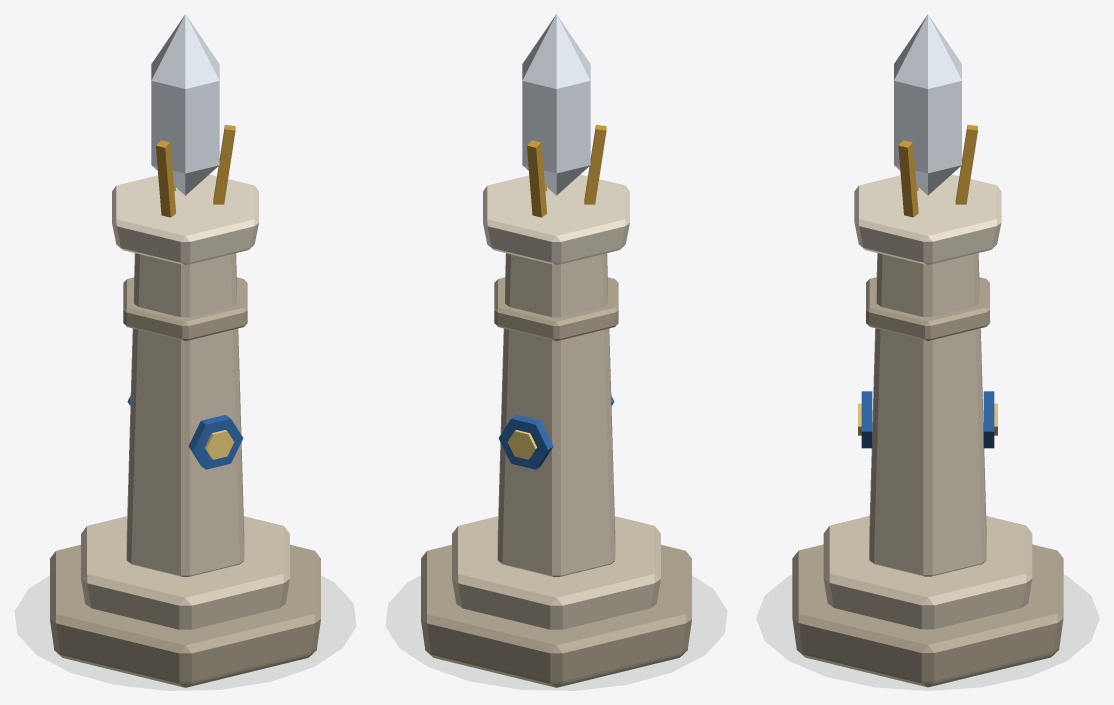
The model's file is waymark.glb.
3 renders of one model, left to right at view 1: azimuth 30°, elevation 25°; view 2: azimuth 150°, elevation 25°; view 3: azimuth 270°, elevation 25°, orthographic.
Parts seen in each view (by area): view 1: waymark; view 2: waymark; view 3: waymark.
Part boxes in pixels (x1=…): waymark: x1=50, y1=14, x2=320, y2=687; waymark: x1=421, y1=14, x2=691, y2=687; waymark: x1=792, y1=14, x2=1063, y2=687.
Size of the model in its own units: 0.96 by 1.89 by 0.96.
